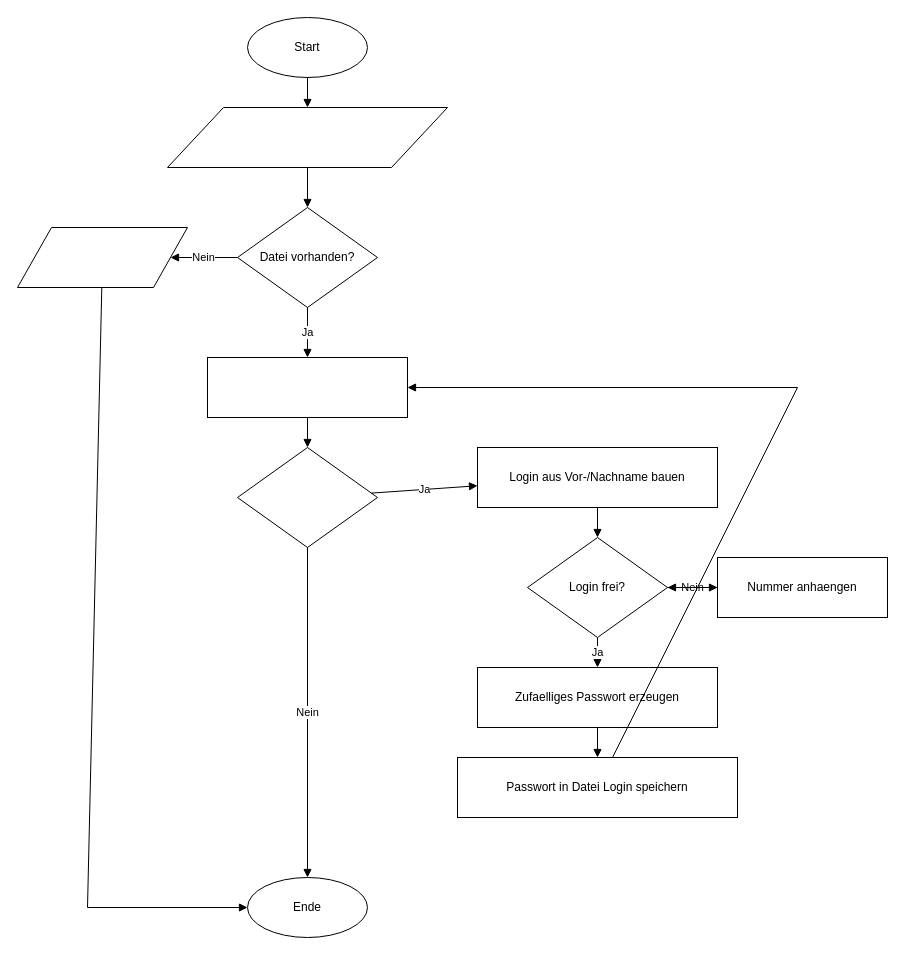
The diagram is 905 pixels wide and 955 high, and some of its shapes have lost their labels. The centre of each missing label's shape, as x and y in pixels:
Datei mit Namen eingeben: (x=307, y=137)
Fehler ausgeben: (x=102, y=257)
Naechsten Namen lesen: (x=307, y=387)
Name vorhanden?: (x=307, y=497)
